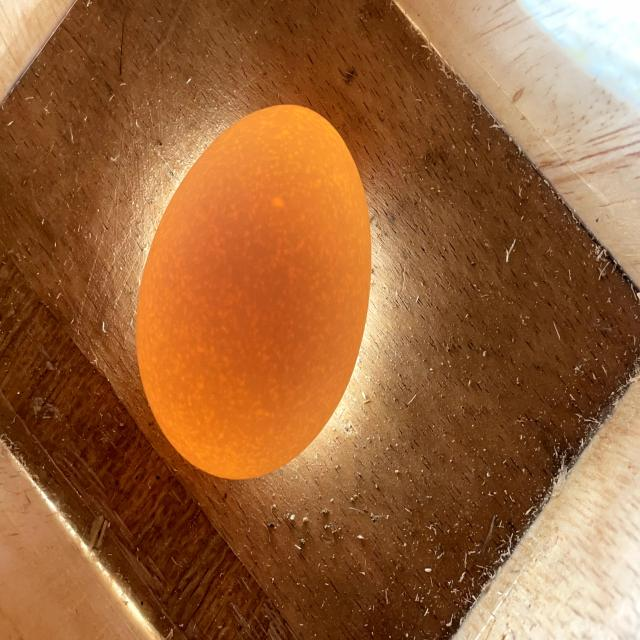infertile: (136, 105, 371, 478)
